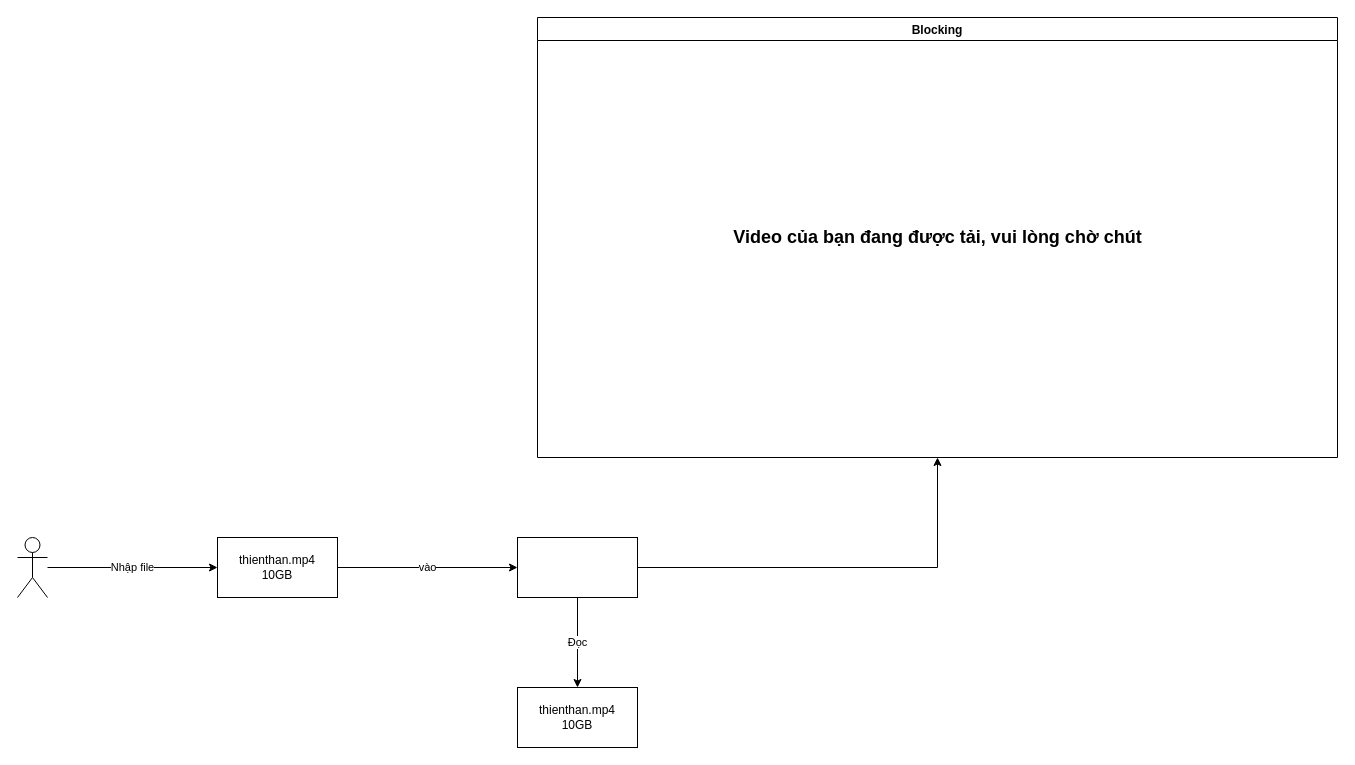
Image size: 1355x765. Some labels were removed from this diagram. The centre of each missing label's shape, as x and y in pixels:
Tao: point 32,567
Trình chỉnh sửa video: point 577,567
